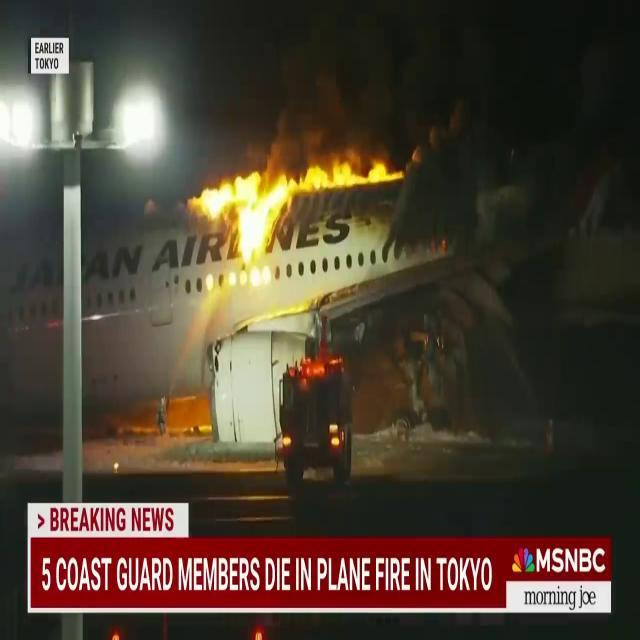Fire: (193, 162, 293, 280), (302, 148, 400, 192)
